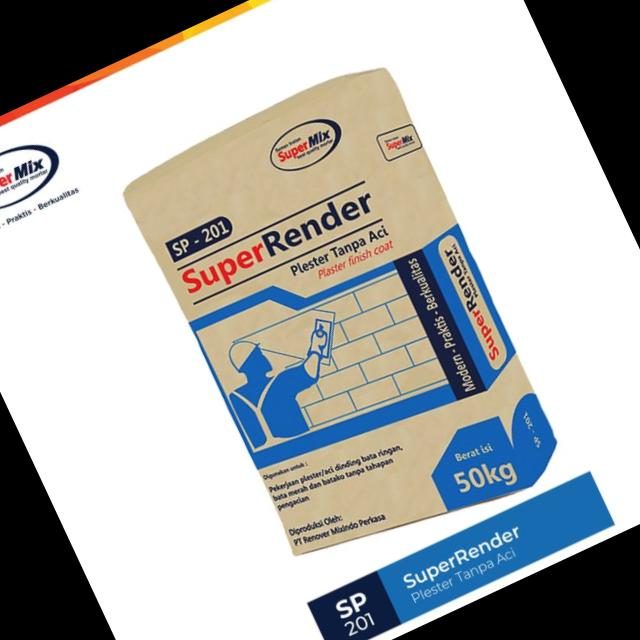KantongSemen: (109, 47, 586, 599)
